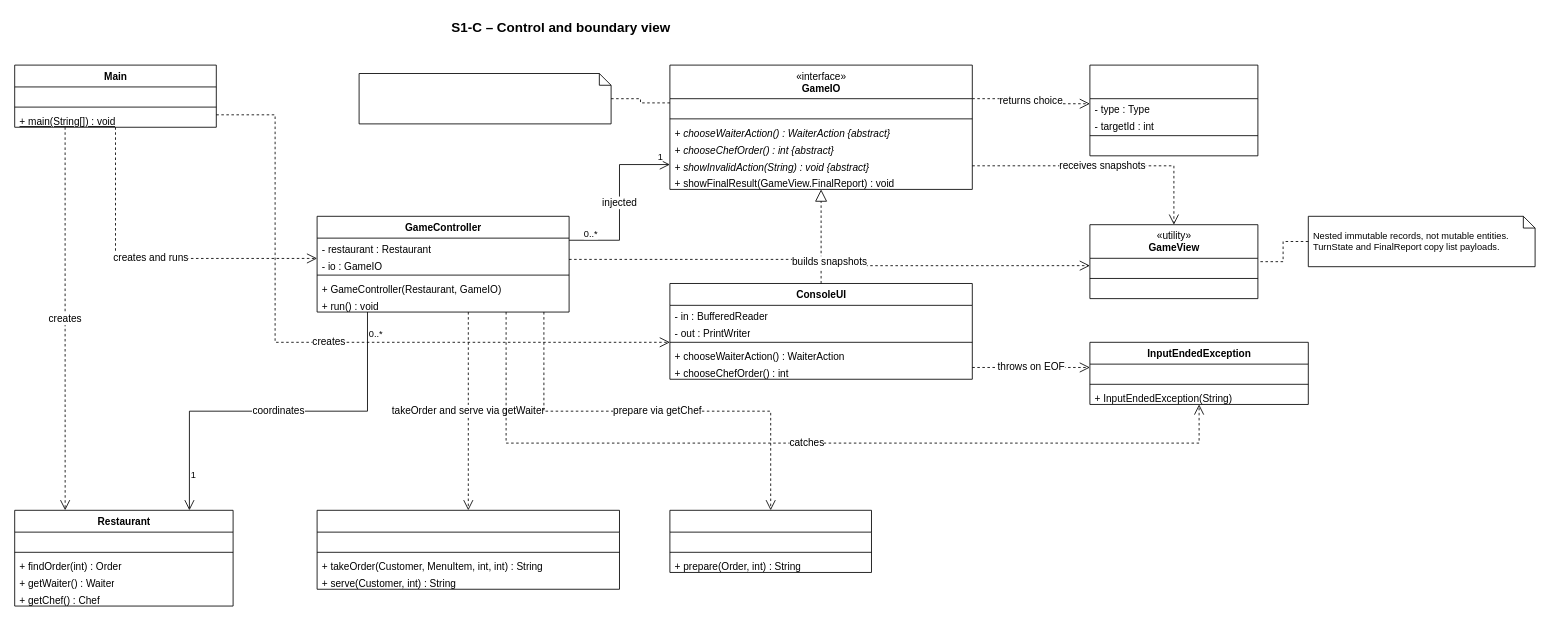
This 1550x622 diagram has some shape labels left out. Here are the shapes that lost their labels. From the top down, the box of each, then its label:
(358, 73, 611, 124): Three abstract operations. Five display callbacks have default no-op bodies.
(1089, 64, 1258, 156): «record» WaiterAction
(316, 509, 620, 589): Waiter
(669, 509, 872, 572): Chef
